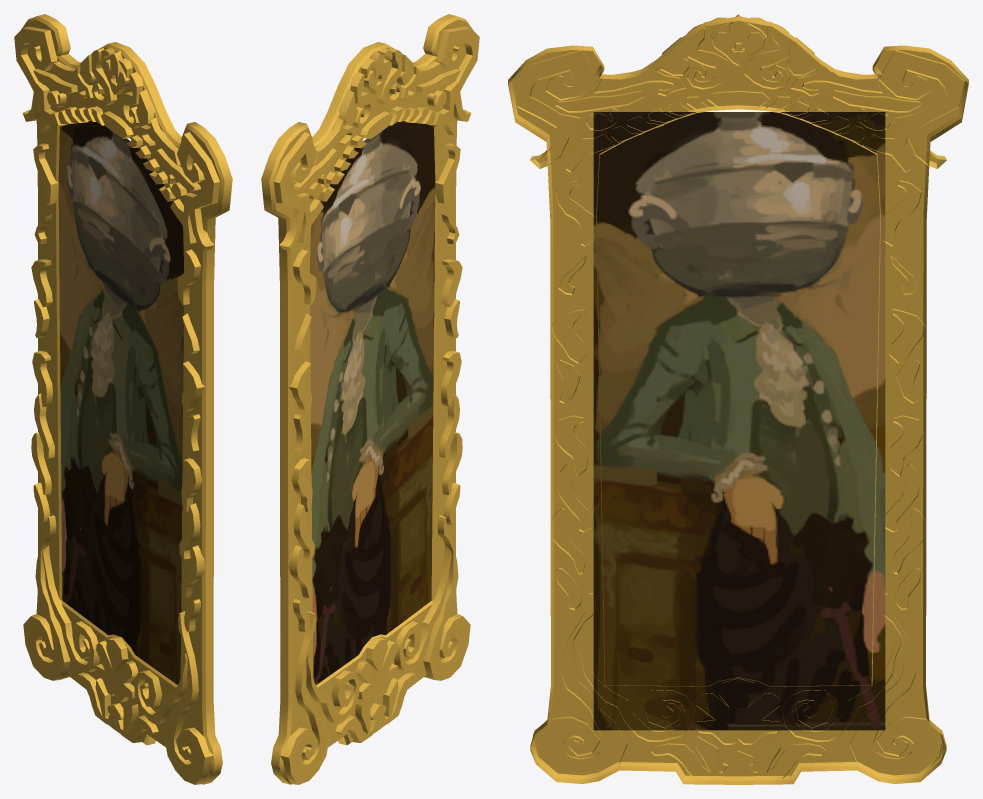
The model's file is paintingFrame.fbx.
3 renders of one model, left to right at view 1: azimuth 30°, elevation 25°; view 2: azimuth 150°, elevation 25°; view 3: azimuth 270°, elevation 25°, orthographic. The views are drawn at different scales.
Visible parts, largest first — view 1: paintingPicture, paintingDetail, paintingFrame; view 2: paintingPicture, paintingDetail, paintingFrame; view 3: paintingPicture, paintingFrame, paintingDetail.
Part boxes in pixels (x1=…): paintingPicture: x1=58, y1=121, x2=184, y2=684; paintingDetail: x1=14, y1=26, x2=220, y2=784; paintingFrame: x1=21, y1=14, x2=232, y2=784; paintingPicture: x1=309, y1=121, x2=435, y2=684; paintingDetail: x1=273, y1=26, x2=479, y2=784; paintingFrame: x1=261, y1=14, x2=472, y2=784; paintingPicture: x1=593, y1=112, x2=885, y2=730; paintingFrame: x1=508, y1=16, x2=968, y2=784; paintingDetail: x1=512, y1=14, x2=964, y2=778.
Bounding box in the file's own units: 0.2109 × 8.37 × 4.57.
Materials: 2 (2 with a texture image).
